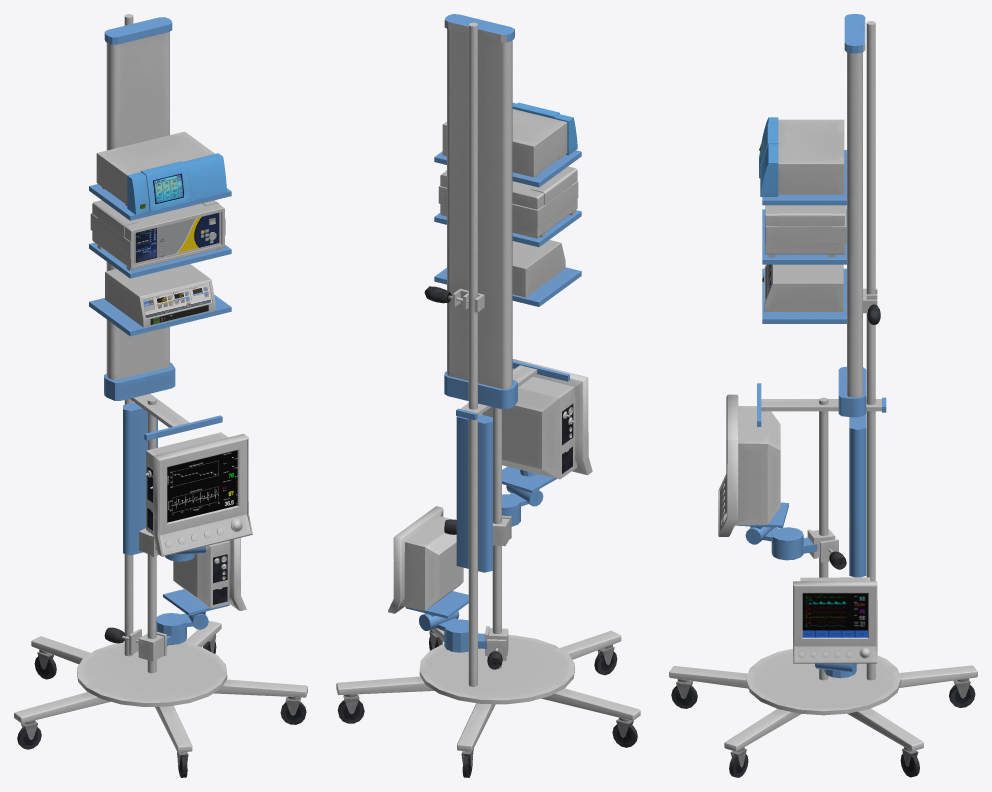
File: MachineA.fbx
3 views of the same model, side by side, from view 1: azimuth 30°, elevation 25°; view 2: azimuth 150°, elevation 25°; view 3: azimuth 270°, elevation 25° (orthographic). The views are drawn at different scales.
Parts seen in each view (by area): view 1: MachineA; view 2: MachineA; view 3: MachineA.
Boxes of the visible parts, x1,y1,x2,y2 form: MachineA: [14, 14, 307, 777]; MachineA: [336, 14, 640, 777]; MachineA: [669, 14, 977, 777].
Size of the model in its own units: 78.64 by 208 by 82.58.
